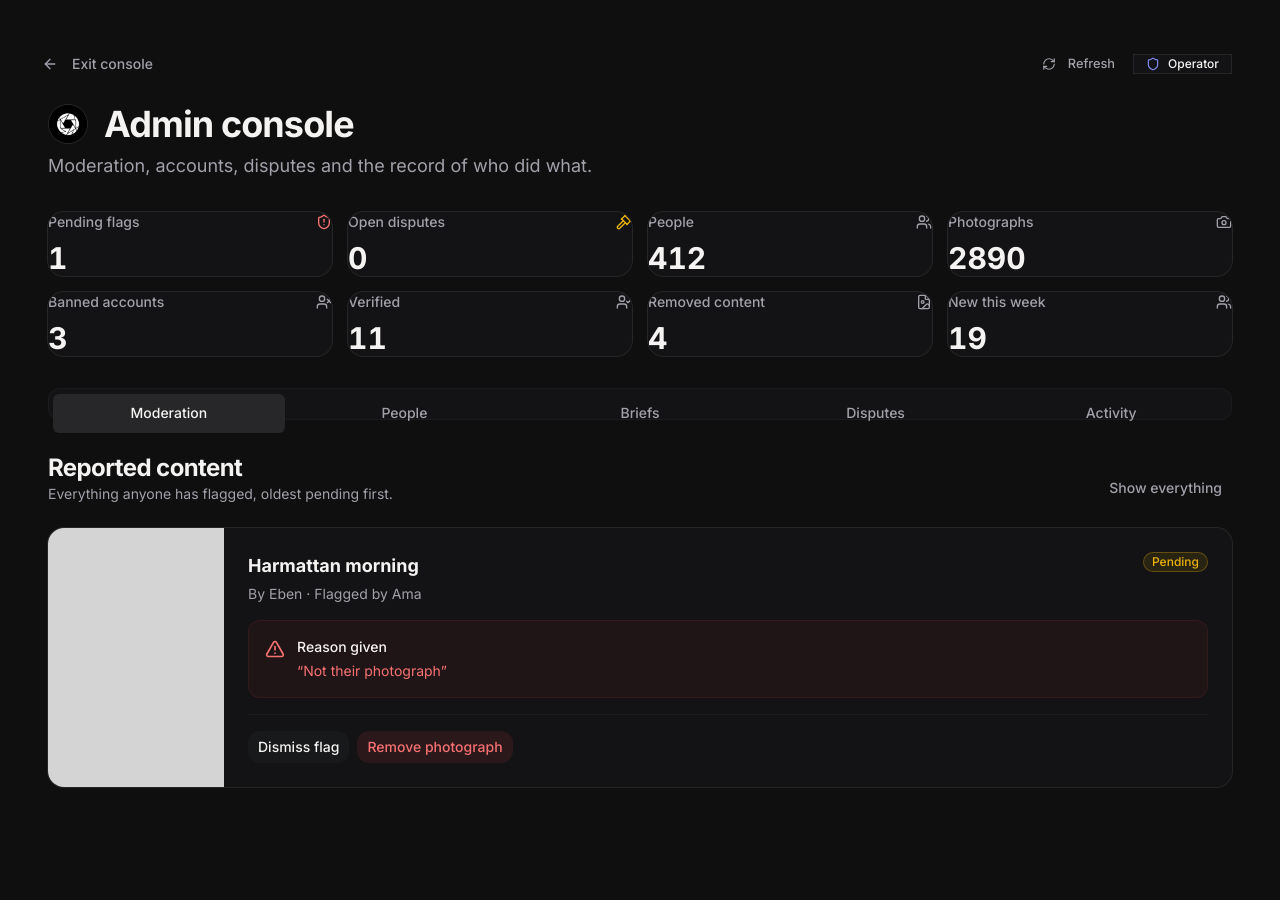
Test: AdminPage › RENDERS THE PEOPLE TAB WITHOUT CRASHING
Check: the heading "Harmattan morning" is shown, box [248, 552, 422, 580]
Click the tab "People" at (404, 413), box [289, 394, 520, 432]
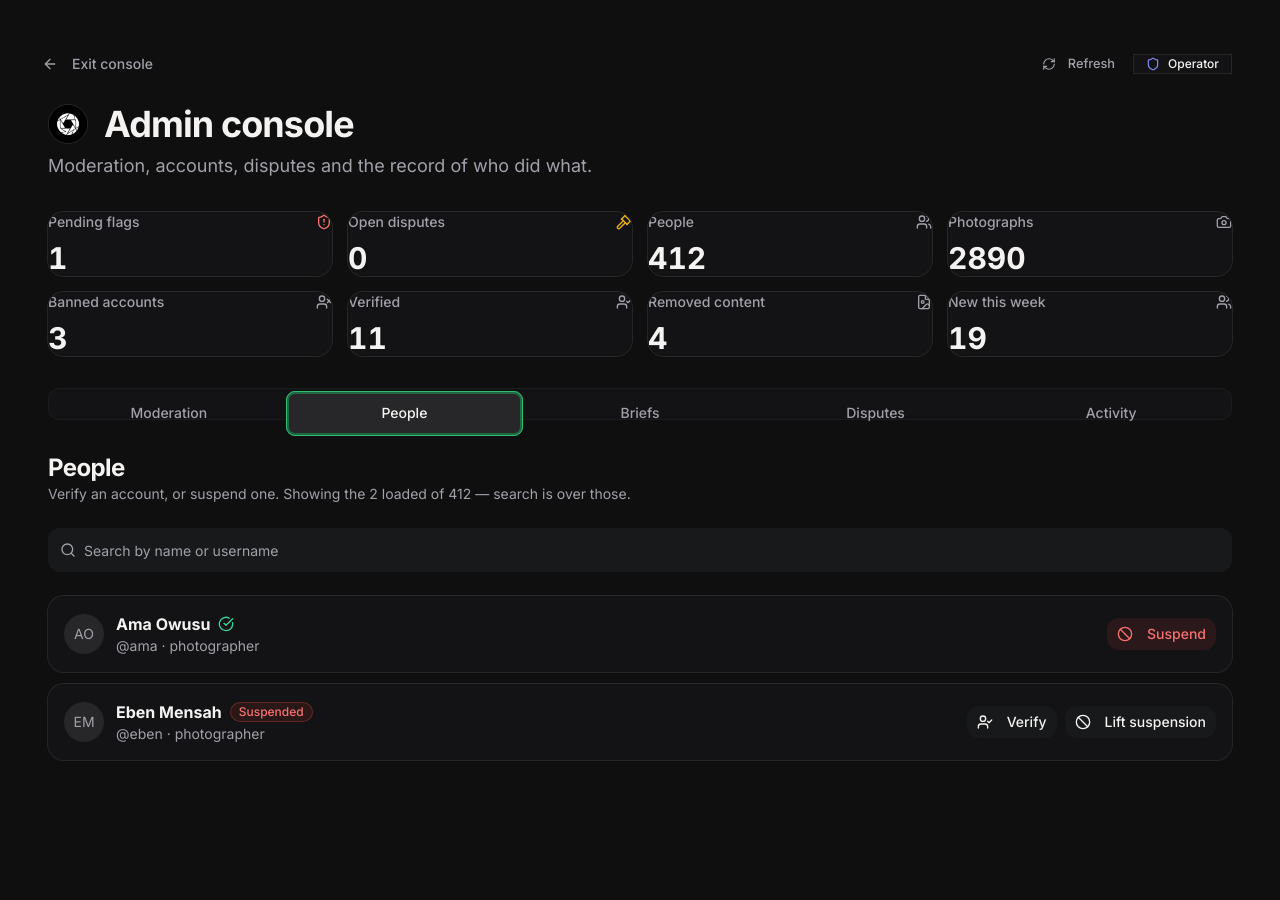
Check: the heading "Ama Owusu" is shown, box [116, 612, 210, 636]
Check: the heading "Eben Mensah" is shown, box [116, 700, 222, 724]
Check: the text "Suspended" is shown, box [230, 702, 313, 722]
